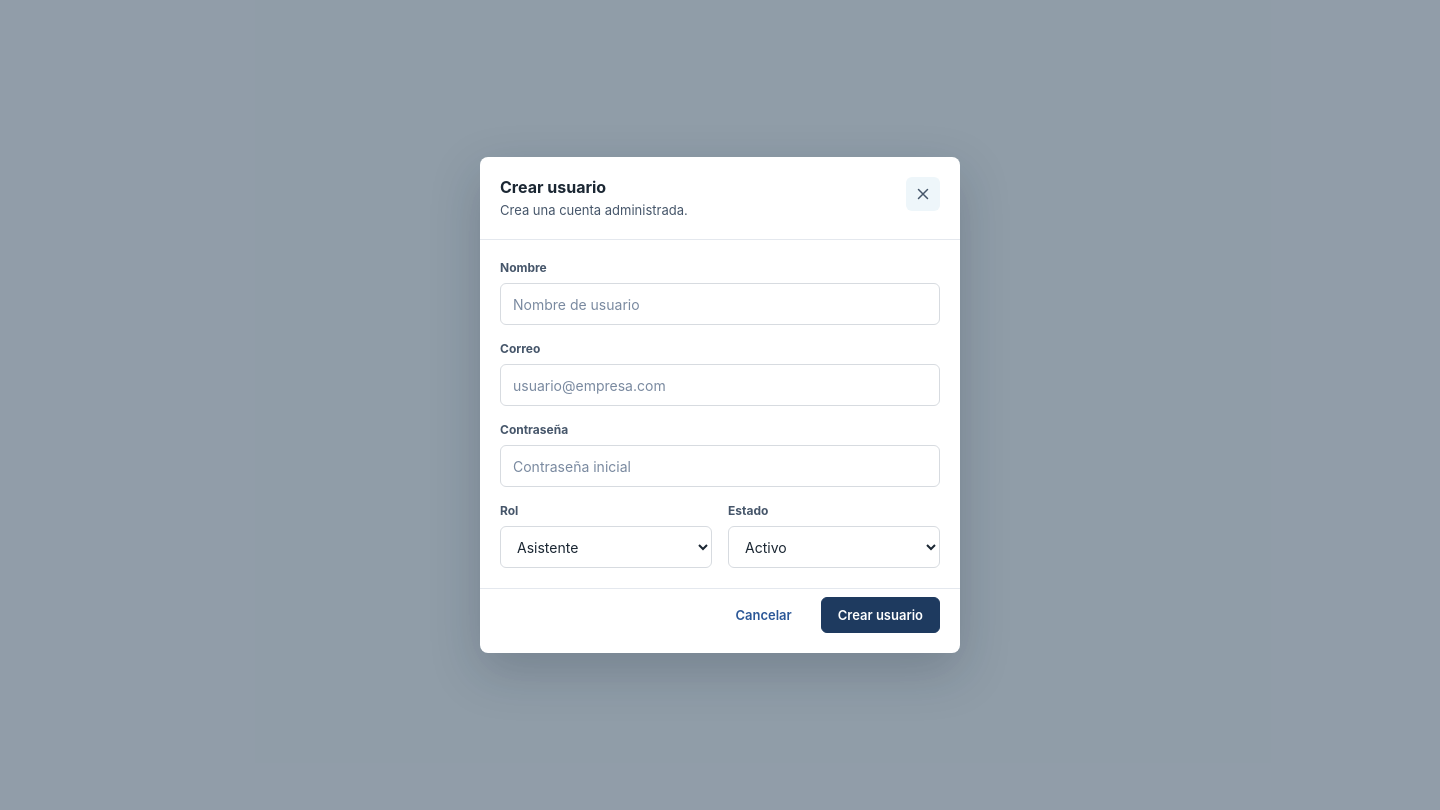
Scenario: AdminUserFormModal › shows API errors when saving fails
In the field with id "admin-user-name": (720, 304) [500, 283, 940, 325], type "  Ana Gomez  "
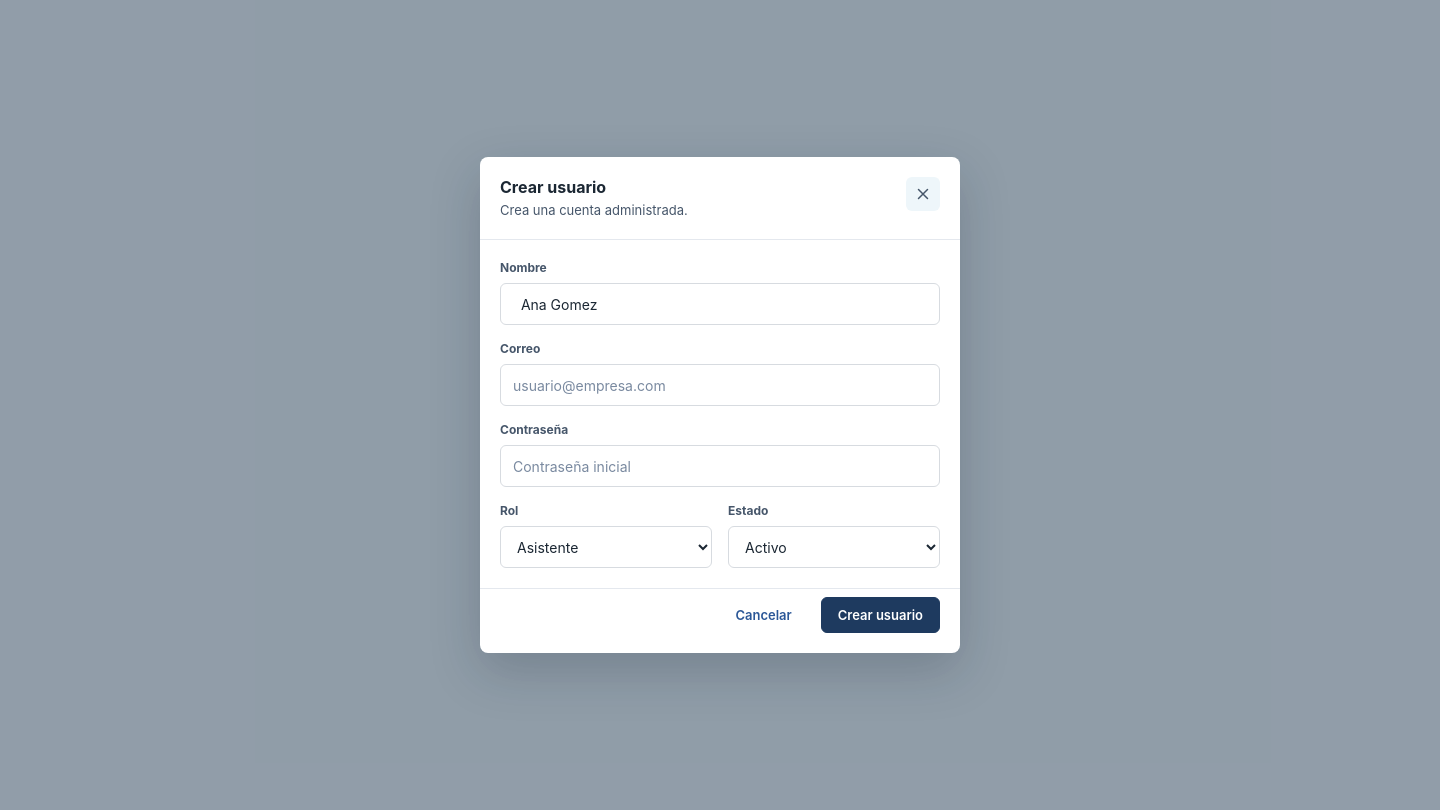
In the field with id "admin-user-email": (720, 385) [500, 364, 940, 406], type "  ana@example.com  "
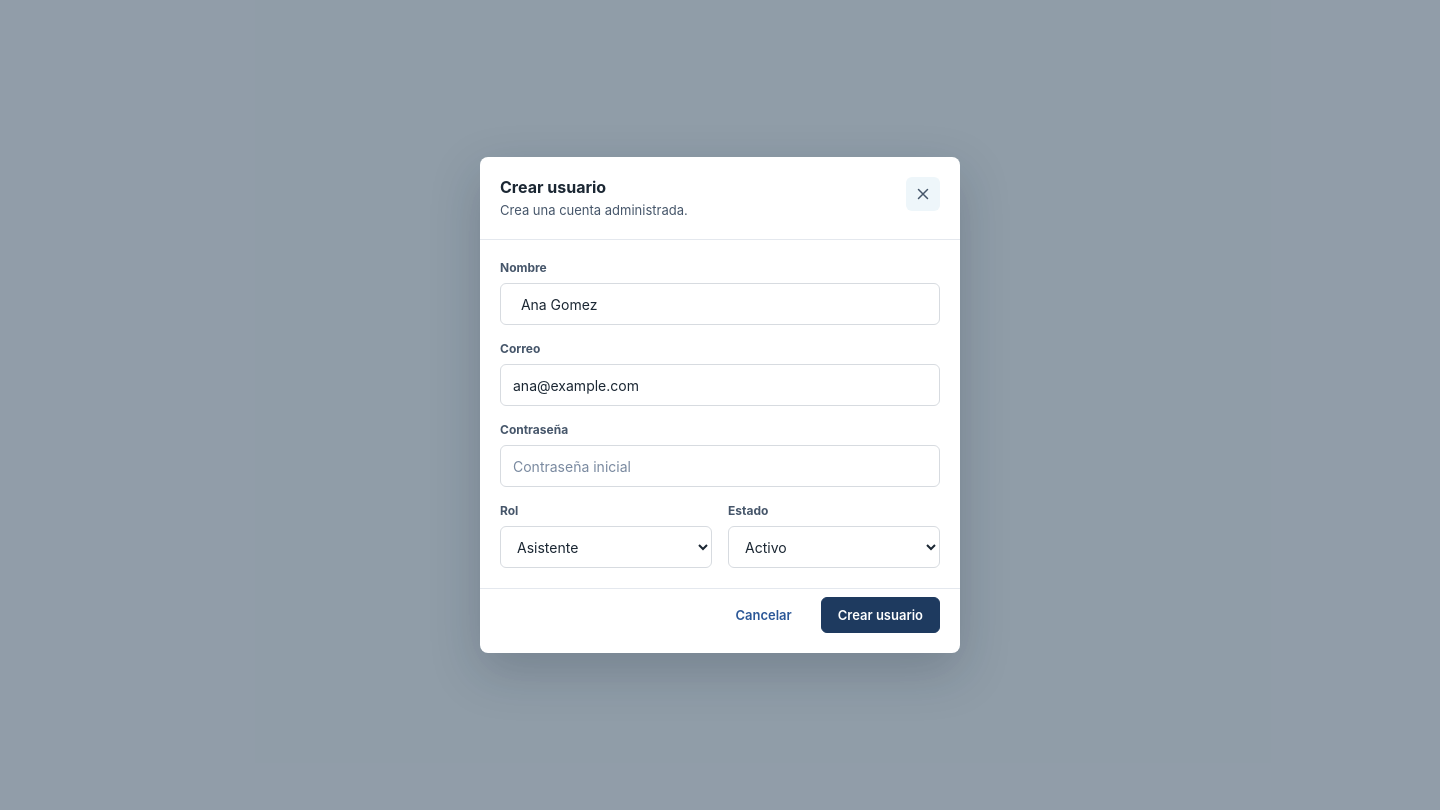
In the password field with id "admin-user-password": (720, 466) [500, 445, 940, 487], type "secret"
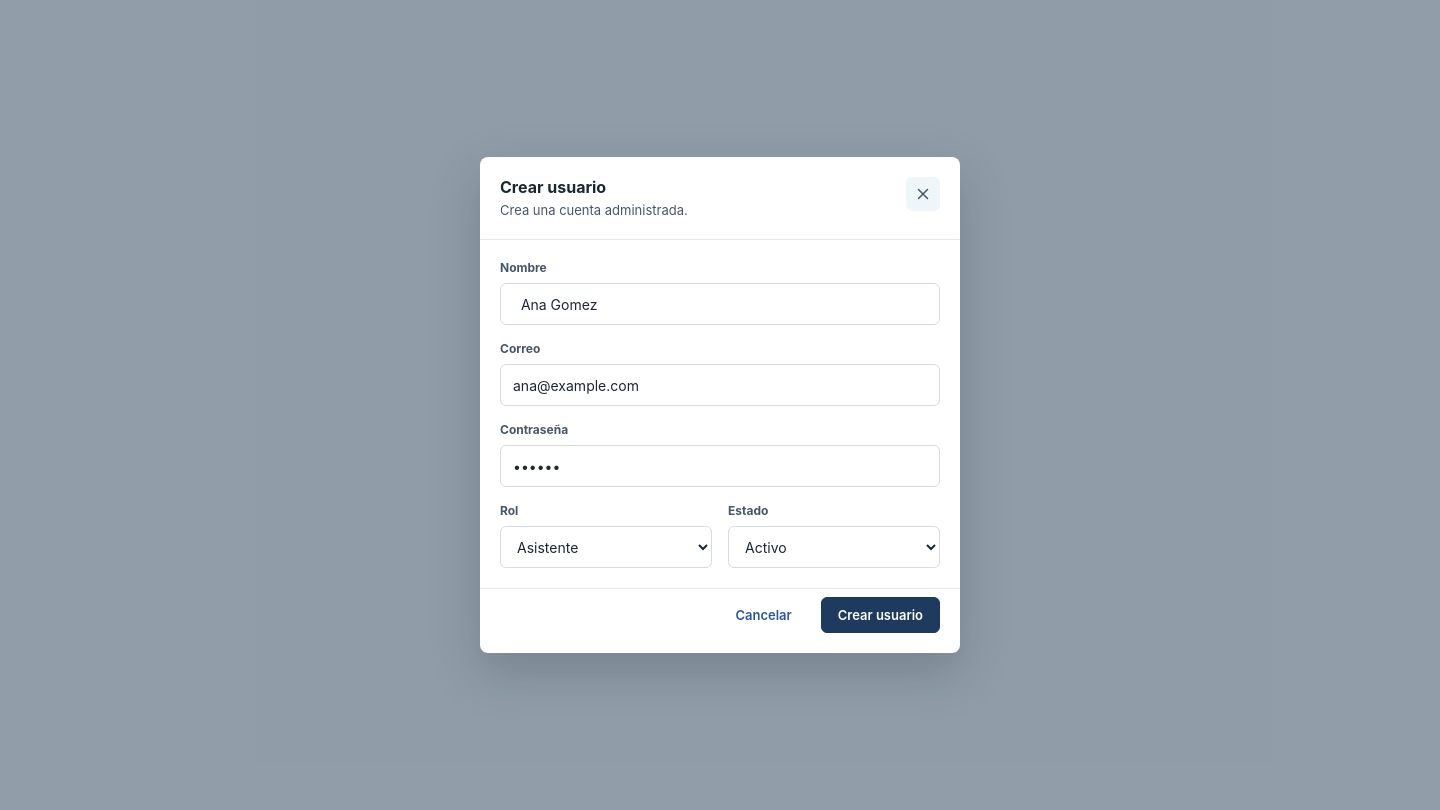
Select "Organizador" in the dropdown with id "admin-user-role": (606, 547) [500, 526, 712, 568]
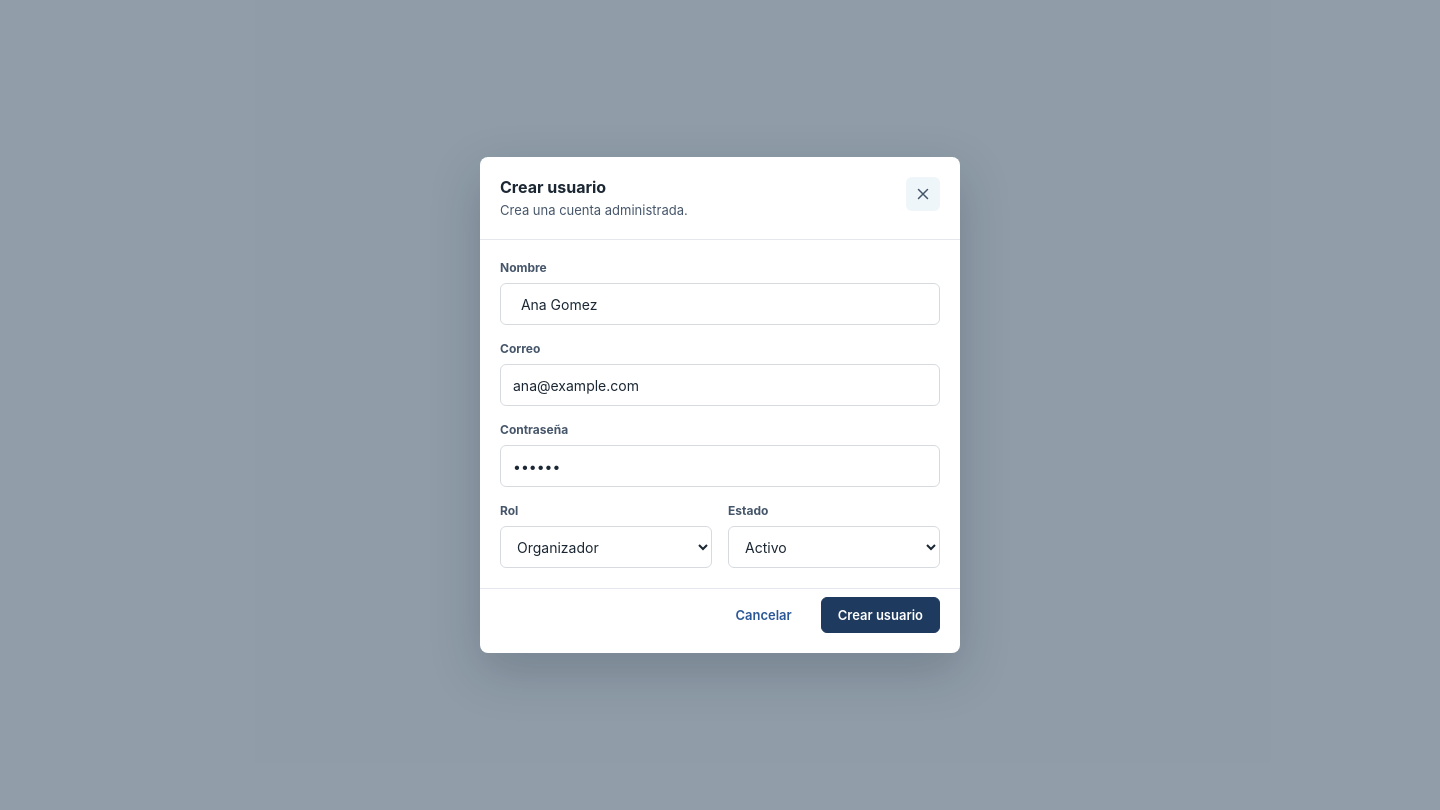
Select "Inactivo" in the dropdown with id "admin-user-status": (834, 547) [728, 526, 940, 568]
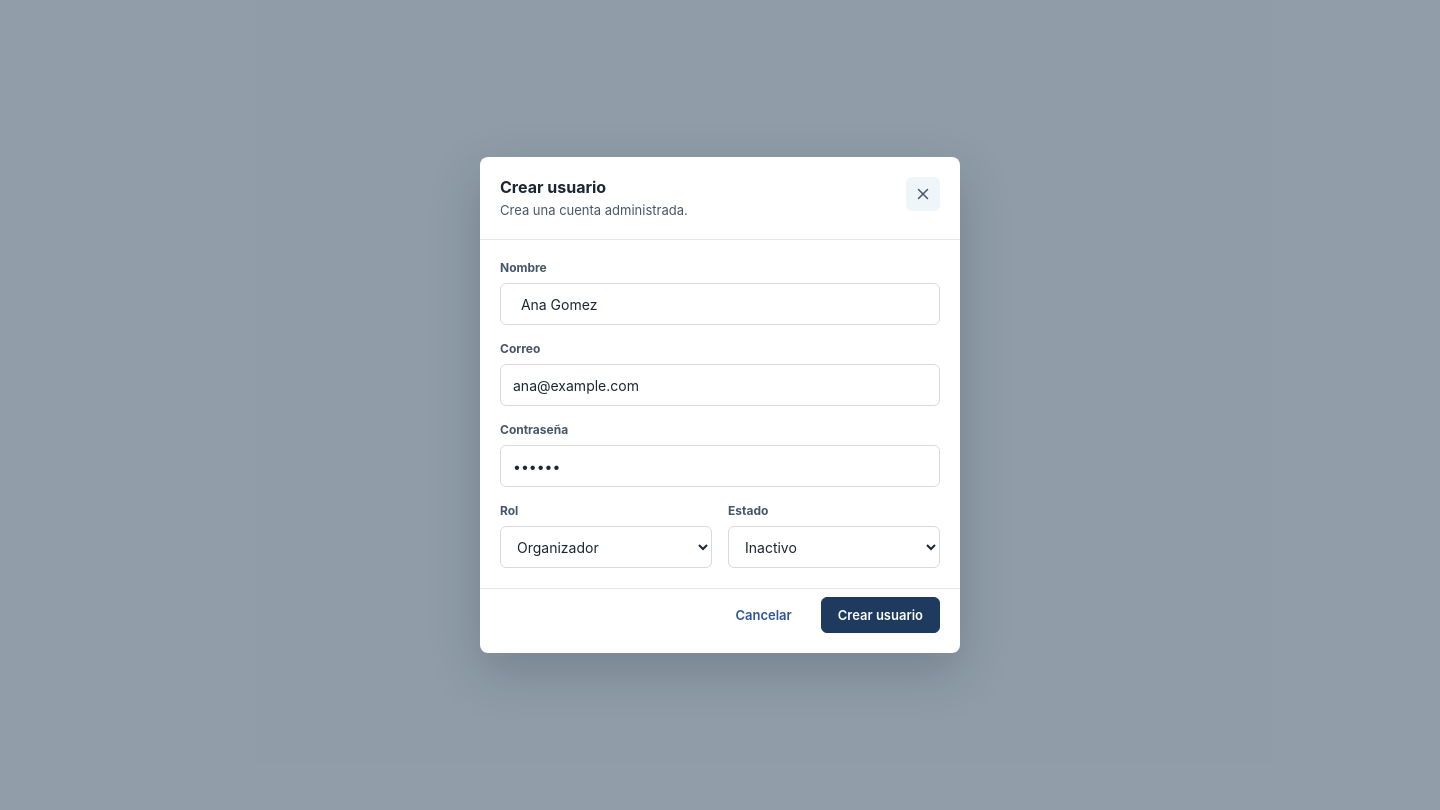
Submit the form, box [480, 157, 960, 653]
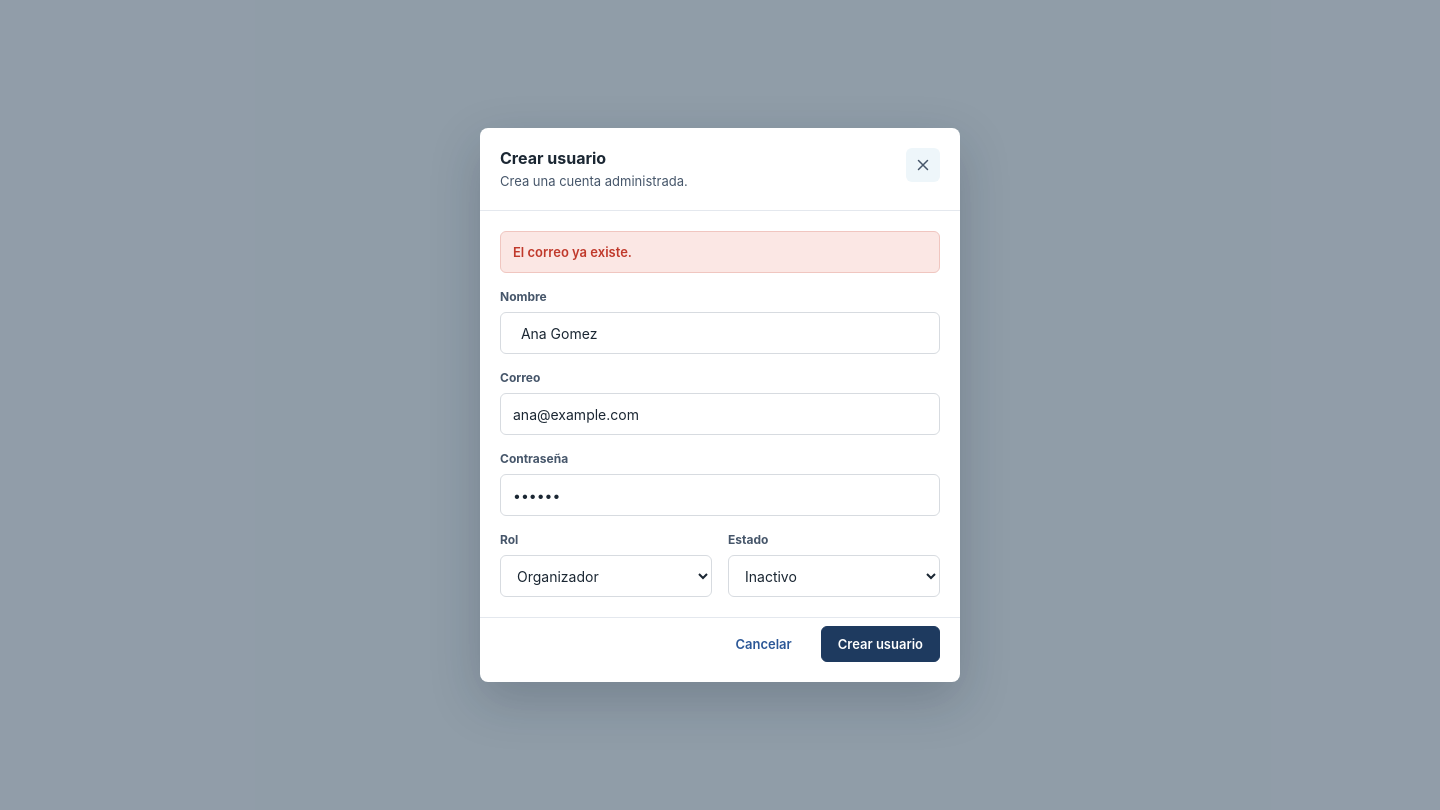
Now the text "El correo ya existe." is shown, box [500, 231, 940, 273]
